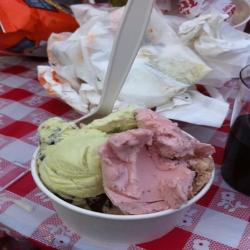icecream: (30, 100, 221, 233)
